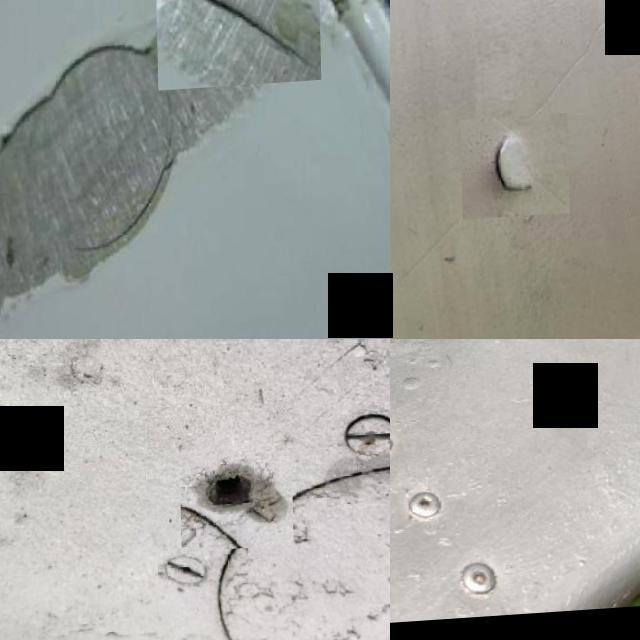Crack: (159, 0, 320, 87), (460, 118, 568, 224)
Dent: (390, 339, 444, 381)
Missing_Fastener: (177, 439, 291, 557)
